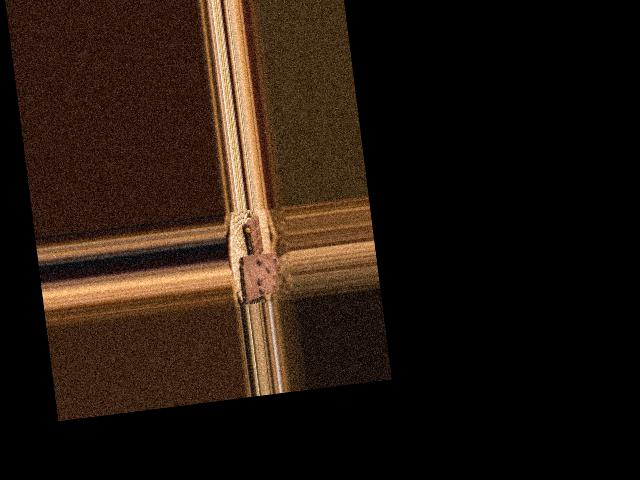chocolate: (237, 249, 282, 302)
